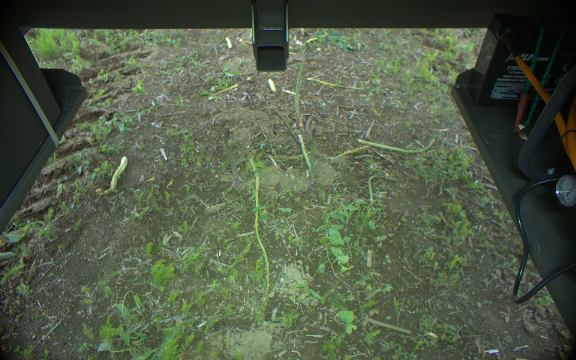aspa: (221, 126, 246, 192), (294, 46, 312, 130), (303, 124, 319, 190)
